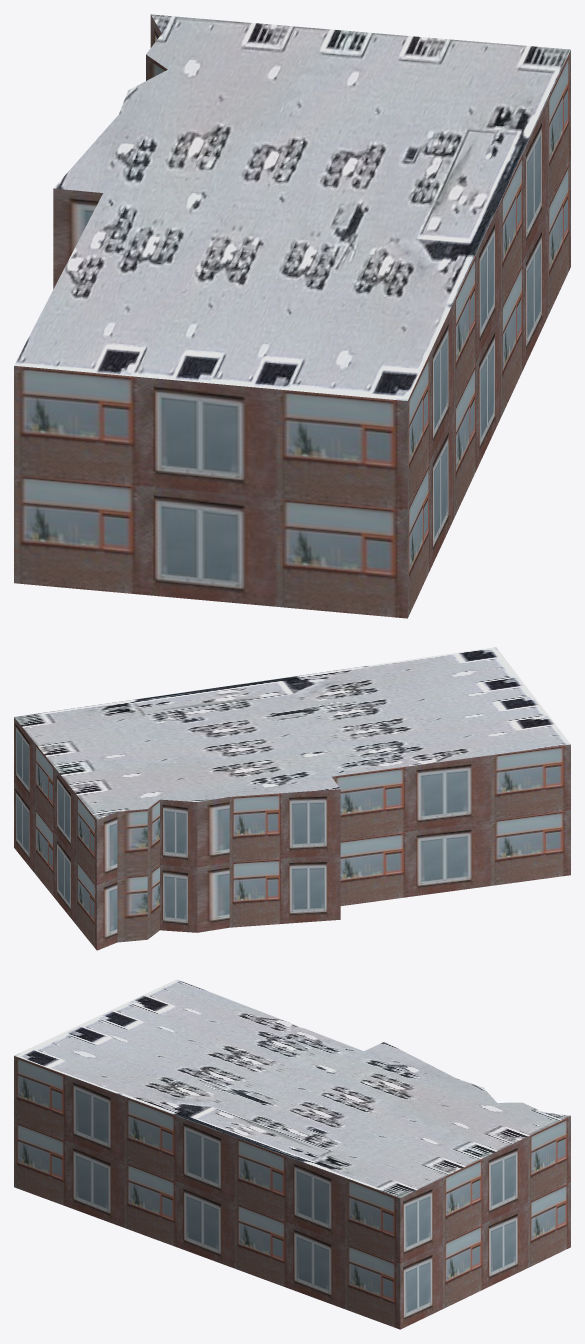
The model's file is ResTex__3515.fbx.
3 views of the same model, one above another, from view 1: azimuth 30°, elevation 25°; view 2: azimuth 150°, elevation 25°; view 3: azimuth 270°, elevation 25° (orthographic). The views are drawn at different scales.
Visible parts, largest first — view 1: CityEngineMaterial_15_m, CityEngineMaterial_19_m; view 2: CityEngineMaterial_19_m, CityEngineMaterial_15_m; view 3: CityEngineMaterial_19_m, CityEngineMaterial_15_m.
Boxes of the visible parts, <box> form: CityEngineMaterial_15_m: <box>14,14,570,400</box>; CityEngineMaterial_19_m: <box>14,15,570,618</box>; CityEngineMaterial_19_m: <box>14,717,570,950</box>; CityEngineMaterial_15_m: <box>14,647,570,819</box>; CityEngineMaterial_19_m: <box>14,1056,570,1329</box>; CityEngineMaterial_15_m: <box>14,979,570,1197</box>.
Size of the model in its own units: 21.42 by 6 by 23.03.
2 materials, 2 textured.
